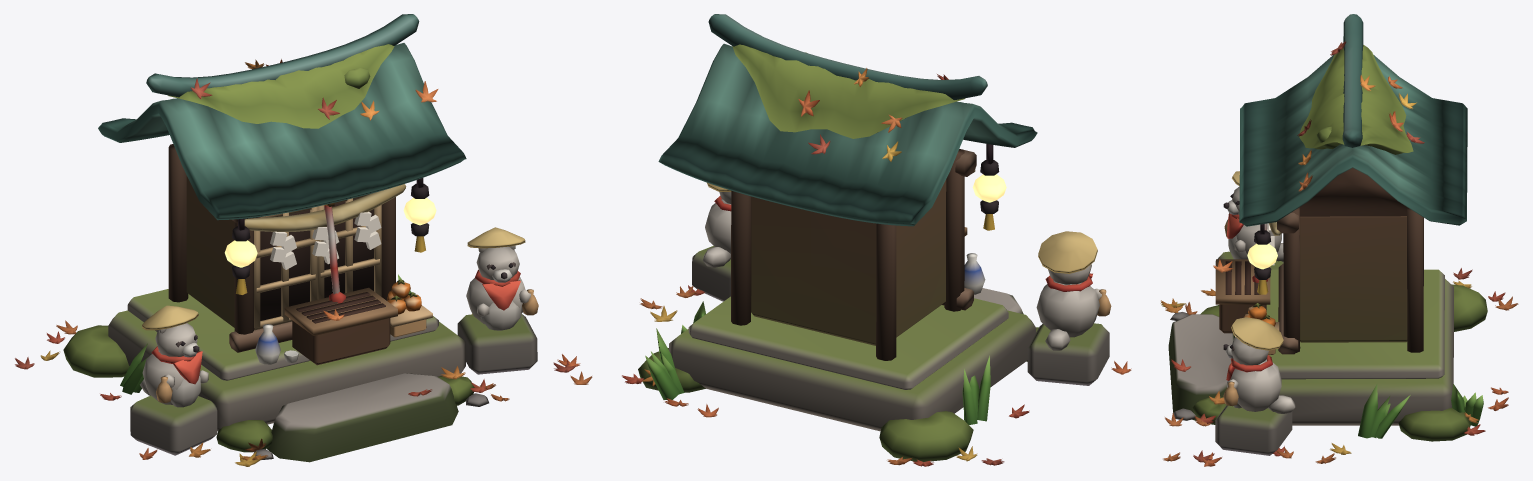
The model's file is dg-maple-hokora.glb.
3 views of the same model, side by side, from view 1: azimuth 30°, elevation 25°; view 2: azimuth 150°, elevation 25°; view 3: azimuth 270°, elevation 25° (orthographic). The views are drawn at different scales.
Parts seen in each view (by area): view 1: body, stone, leaf, cloth, glow; view 2: body, stone, leaf, glow; view 3: body, stone, leaf, glow.
Part boxes in pixels (bbox=[...]): body: bbox=[98, 14, 538, 402]; stone: bbox=[63, 44, 537, 462]; leaf: bbox=[15, 59, 592, 466]; cloth: bbox=[270, 211, 381, 269]; glow: bbox=[224, 197, 436, 267]; body: bbox=[658, 14, 1111, 360]; stone: bbox=[638, 44, 1109, 461]; leaf: bbox=[622, 68, 1131, 466]; glow: bbox=[972, 174, 1006, 202]; body: bbox=[1215, 14, 1467, 406]; stone: bbox=[1168, 45, 1487, 455]; leaf: bbox=[1160, 41, 1518, 466]; glow: bbox=[1247, 243, 1277, 269].
Size of the model in its own units: 2.56 by 1.86 by 1.97.
